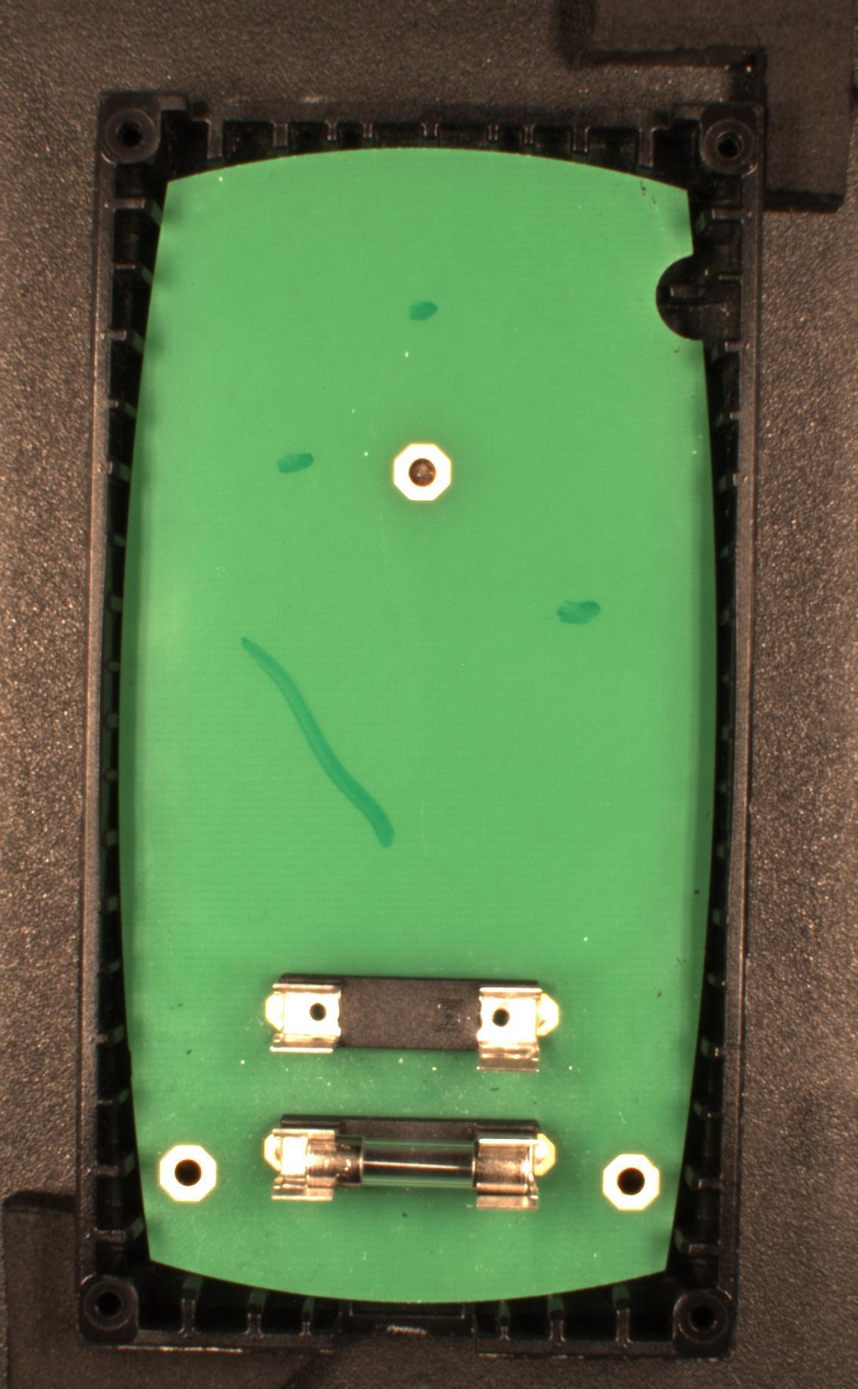Linijsko Ostecene: (240, 635, 397, 850)
Nepostojanje osiguraca: (264, 971, 560, 1075)
Tockasto Ostecenje: (555, 599, 600, 626), (277, 452, 314, 475), (409, 300, 440, 322)
